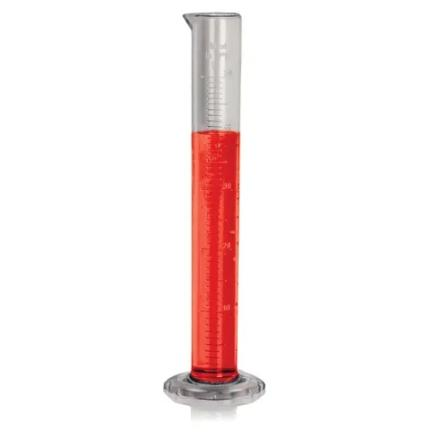container: (184, 14, 241, 381)
fluid: (192, 132, 240, 382)
fluid-surface: (193, 130, 237, 136)
